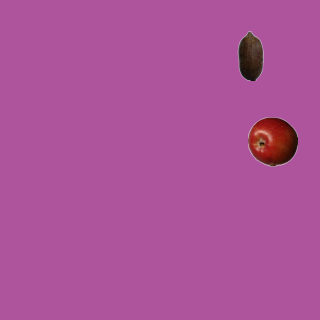Apple Braeburn: (247, 116, 297, 166)
Nut Pecan: (225, 30, 275, 80)
